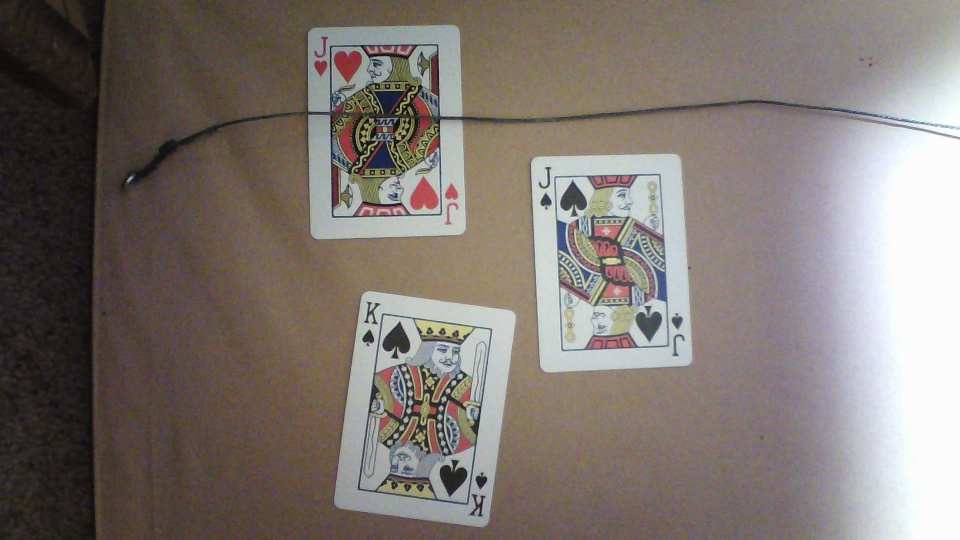jack: (530, 154, 696, 371), (304, 25, 467, 239)
king: (333, 289, 518, 529)
